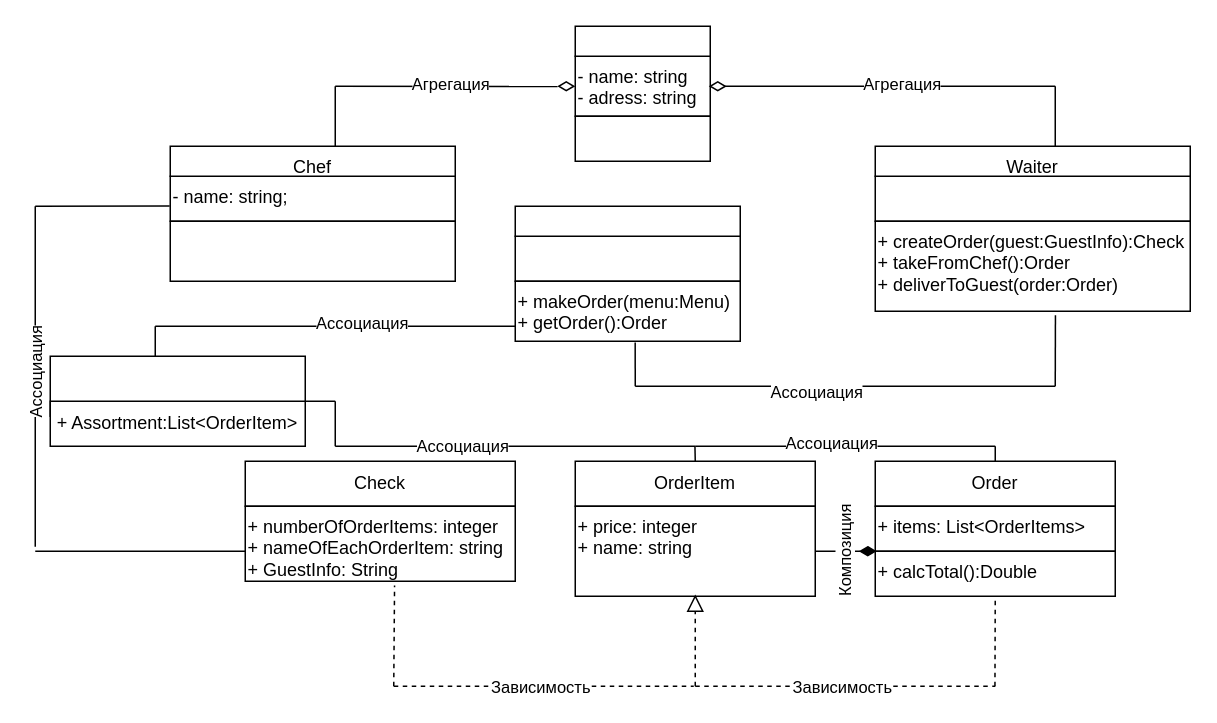
This 1217x723 diagram has some shape labels left out. The shapes that lost their labels are listed below. From the top down, each one's centre as x and y in pixels, then its label:
At (642,40): "Restaraunt".
At (642,138): "+ getGuest()".
At (1032,198): "- name: string".
At (627,220): "Guest".
At (312,250): "+ cookOrder(check:Check):Order + giveToWaiter(order:Order)".
At (627,258): "+ GuestInfo: String".
At (177,385): "Menu".
